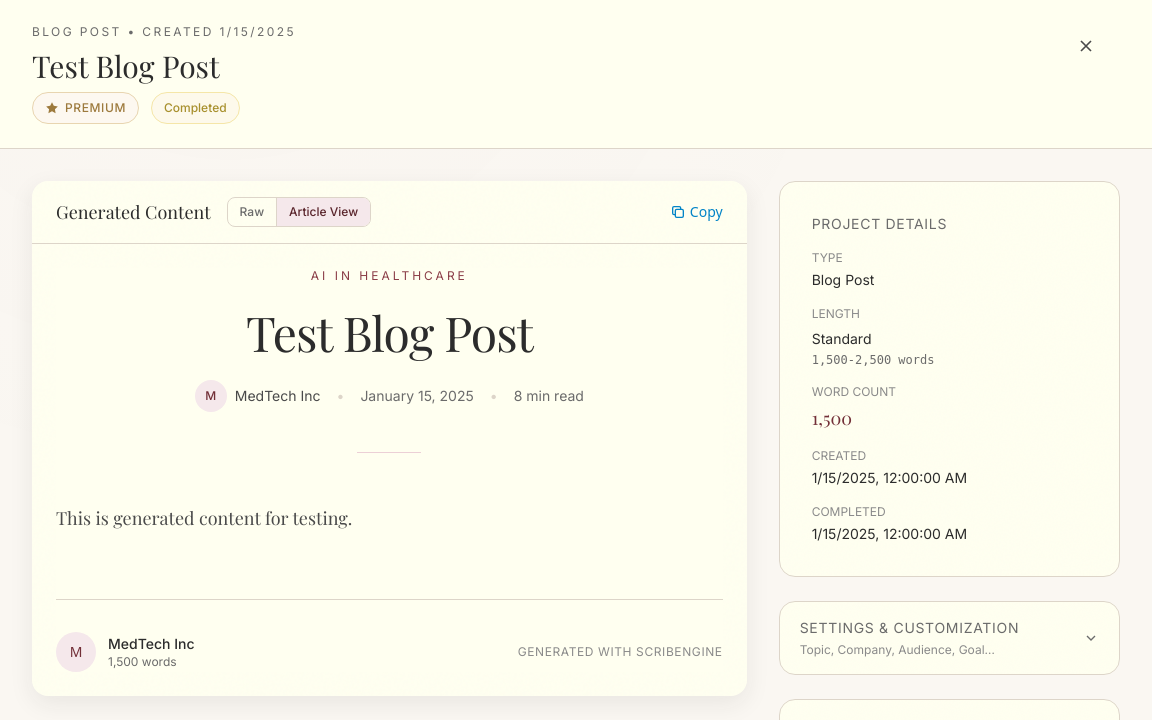
Test: Project Settings Panel › Settings Panel Visibility › collapses when header is clicked again
Click the heading "Settings & Customization": (909, 628) [800, 618, 1019, 638]
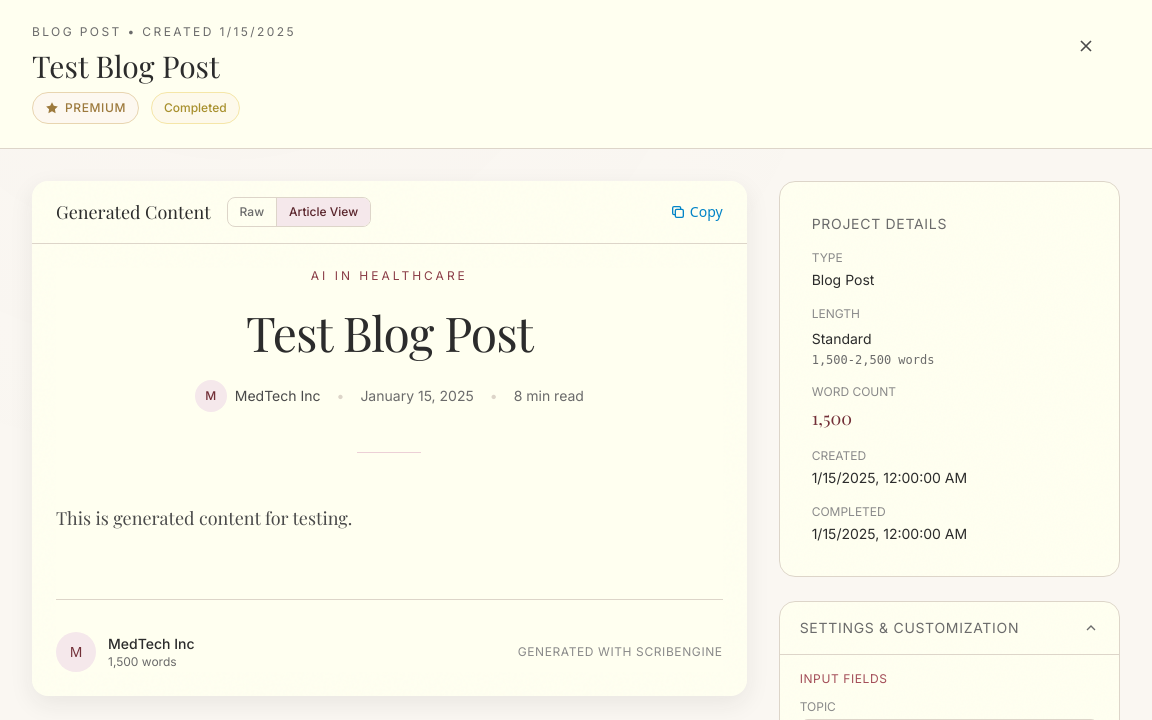
Result: the heading "Input Fields" is shown at [800, 671, 888, 686]
Click the button "Settings & Customization": (949, 628) [780, 602, 1119, 655]
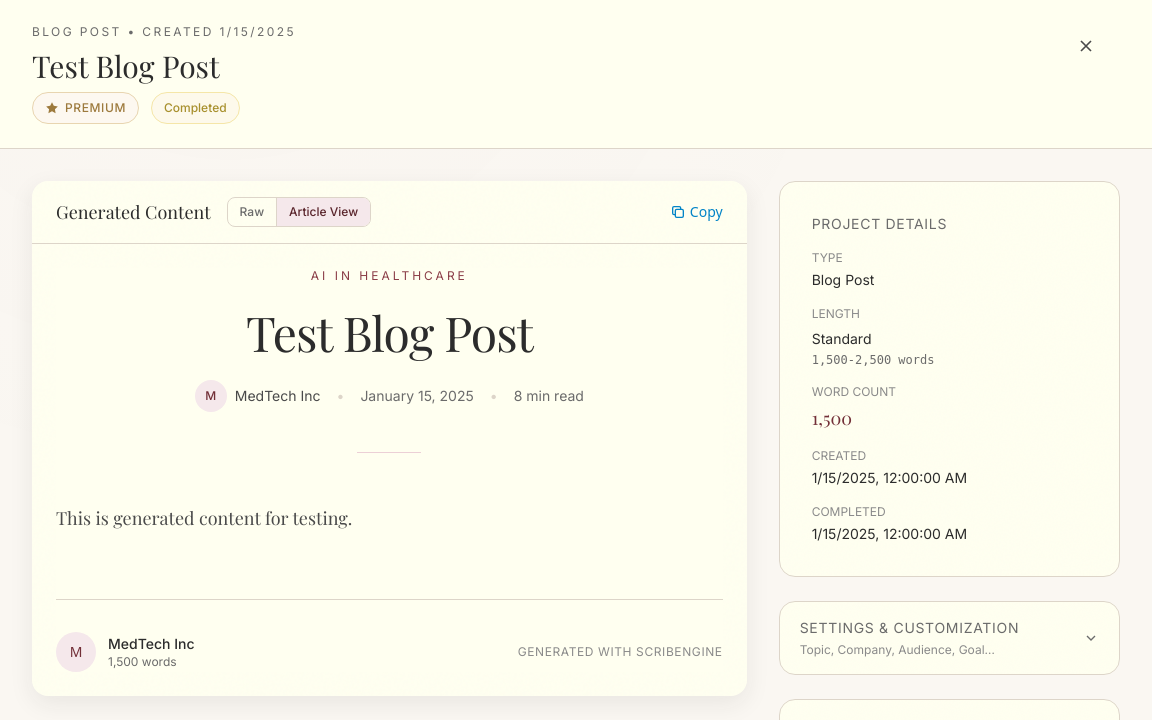
Result: the heading "Input Fields" is gone
